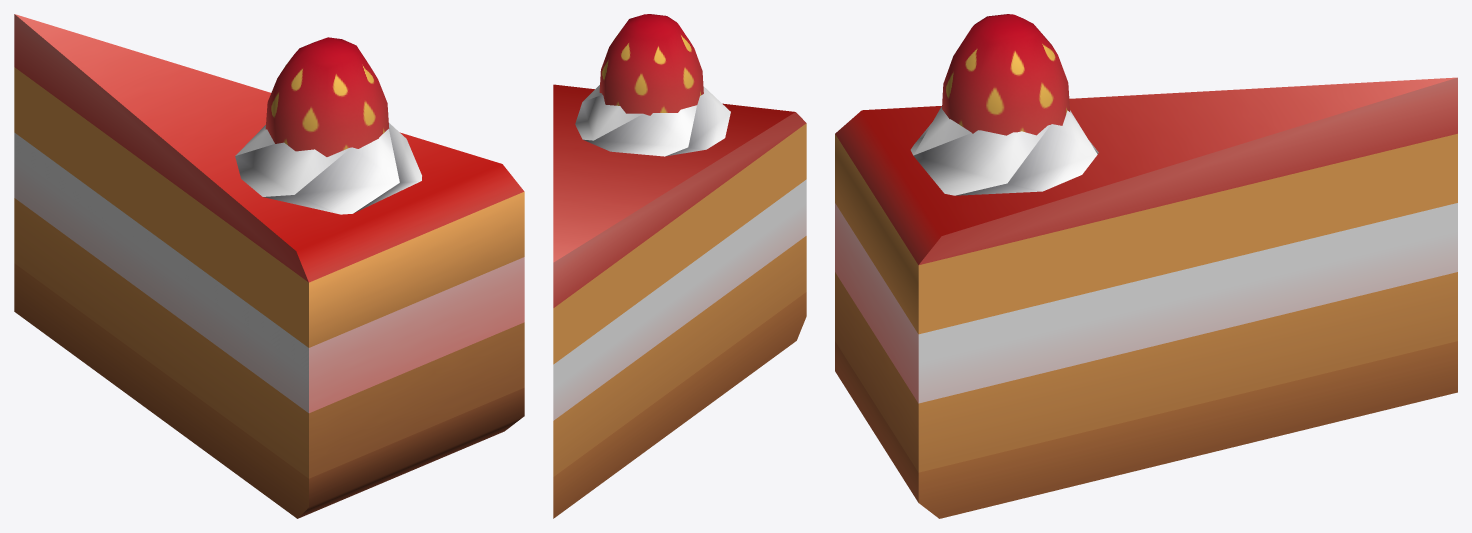
The model's file is m_StrawberryCake01_Slice.fbx.
The picture shows the model from 3 angles, left to right: view 1: azimuth 30°, elevation 25°; view 2: azimuth 150°, elevation 25°; view 3: azimuth 270°, elevation 25°; orthographic projection. The views are drawn at different scales.
Visible parts, largest first — view 1: m_StrawberryCake01_Slice; view 2: m_StrawberryCake01_Slice; view 3: m_StrawberryCake01_Slice.
Boxes of the visible parts, x1,y1,x2,y2 form: m_StrawberryCake01_Slice: [14, 14, 524, 518]; m_StrawberryCake01_Slice: [553, 14, 806, 518]; m_StrawberryCake01_Slice: [835, 14, 1457, 518].
Size of the model in its own units: 7 by 10.49 by 14.
